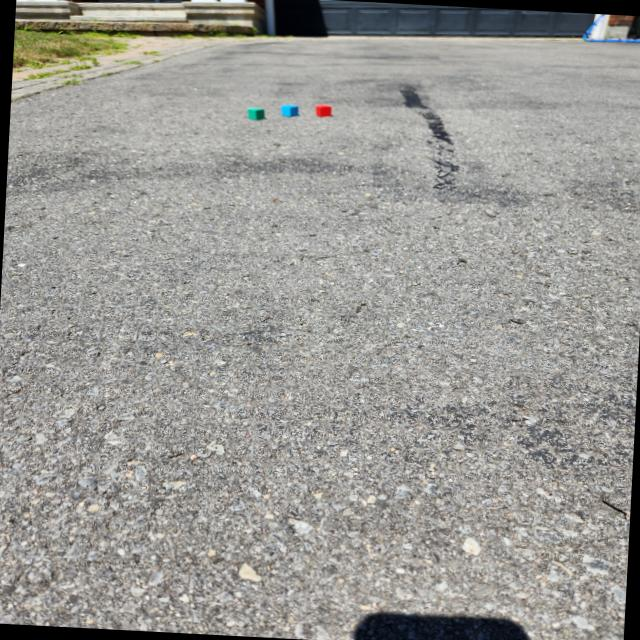bluecube: (280, 103, 299, 118)
green cube: (247, 106, 264, 120)
red cube: (316, 104, 332, 118)
